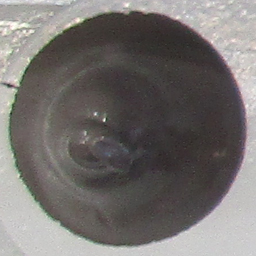perfect: (6, 9, 252, 248)
